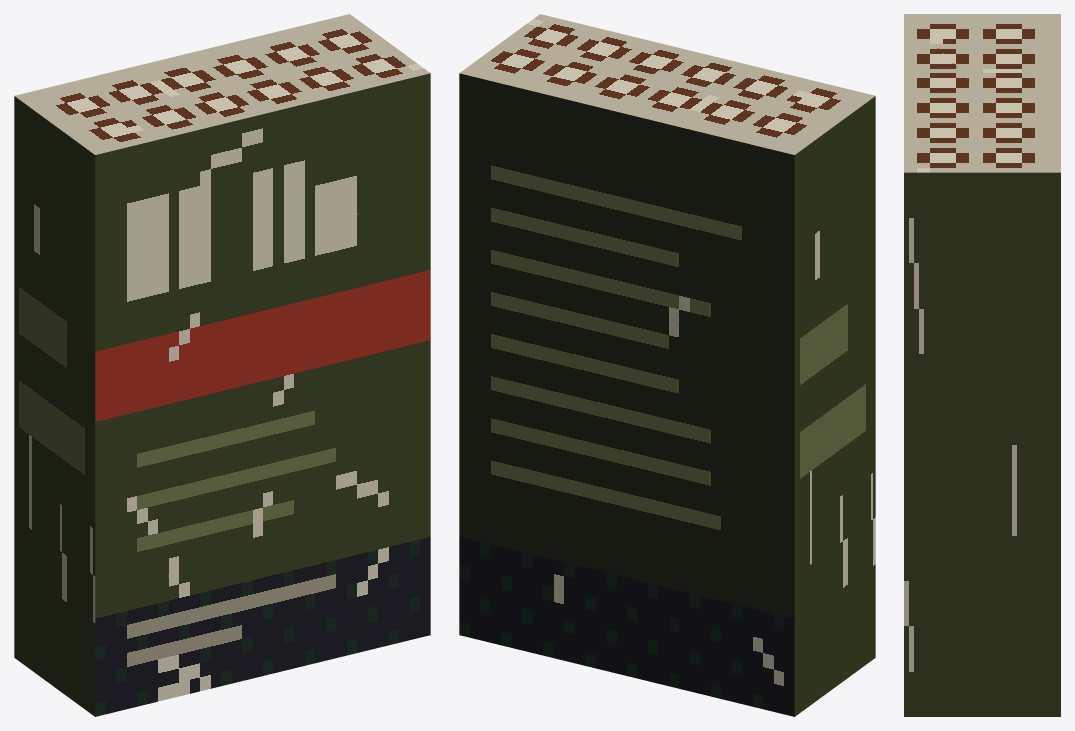
The model's file is SM_Pack_Cigarettes_01.glb.
The picture shows the model from 3 angles, left to right: view 1: azimuth 30°, elevation 25°; view 2: azimuth 150°, elevation 25°; view 3: azimuth 270°, elevation 25°; orthographic projection. The views are drawn at different scales.
Visible parts, largest first — view 1: SM_Pack_Cigarettes_01; view 2: SM_Pack_Cigarettes_01; view 3: SM_Pack_Cigarettes_01.
Part boxes in pixels (x1,y1,x2,y2): SM_Pack_Cigarettes_01: (14, 14, 430, 716); SM_Pack_Cigarettes_01: (459, 14, 875, 716); SM_Pack_Cigarettes_01: (904, 14, 1060, 716).
Bounding box in the file's own units: 0.055 × 0.088 × 0.023.
1 material, 1 textured.
